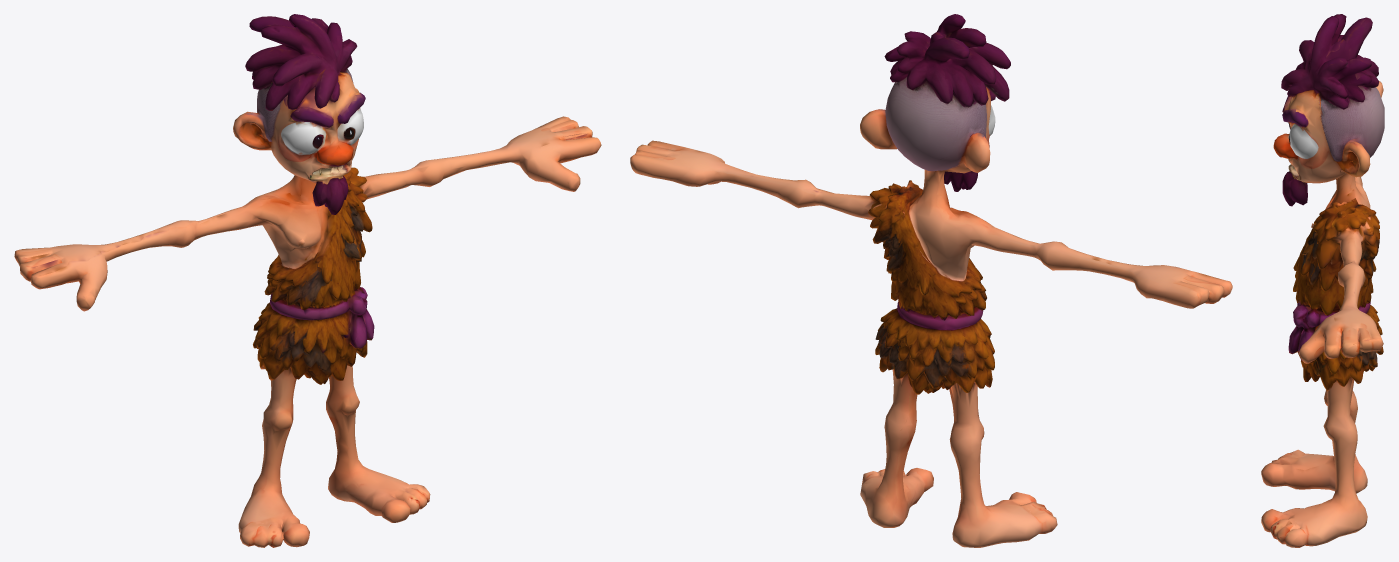
File: tribal_character_02_12000.glb
3 views of the same model, side by side, from view 1: azimuth 30°, elevation 25°; view 2: azimuth 150°, elevation 25°; view 3: azimuth 270°, elevation 25° (orthographic). The views are drawn at different scales.
Visible parts, largest first — view 1: node_0; view 2: node_0; view 3: node_0.
Boxes of the visible parts, x1=… form: node_0: x1=14, y1=14, x2=601, y2=547; node_0: x1=630, y1=14, x2=1232, y2=547; node_0: x1=1261, y1=14, x2=1384, y2=547.
Bounding box in the file's own units: 1.18 × 0.9935 × 0.2299.
1 material, 1 textured.
